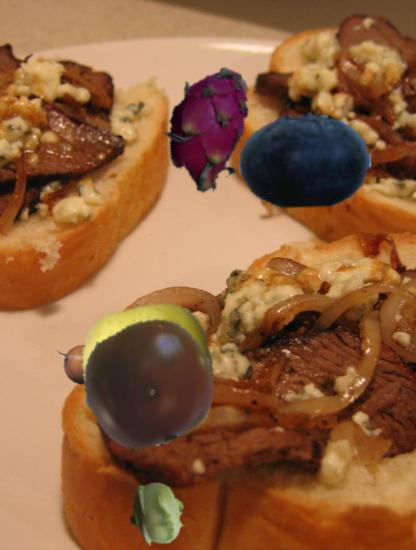Apple: (77, 302, 222, 447)
Blueberry: (239, 94, 371, 226)
Granadilla: (53, 338, 105, 390)
Kohlrabi: (124, 481, 191, 548)
Pitahaya: (147, 65, 274, 192)
Tomato: (83, 318, 214, 449)
